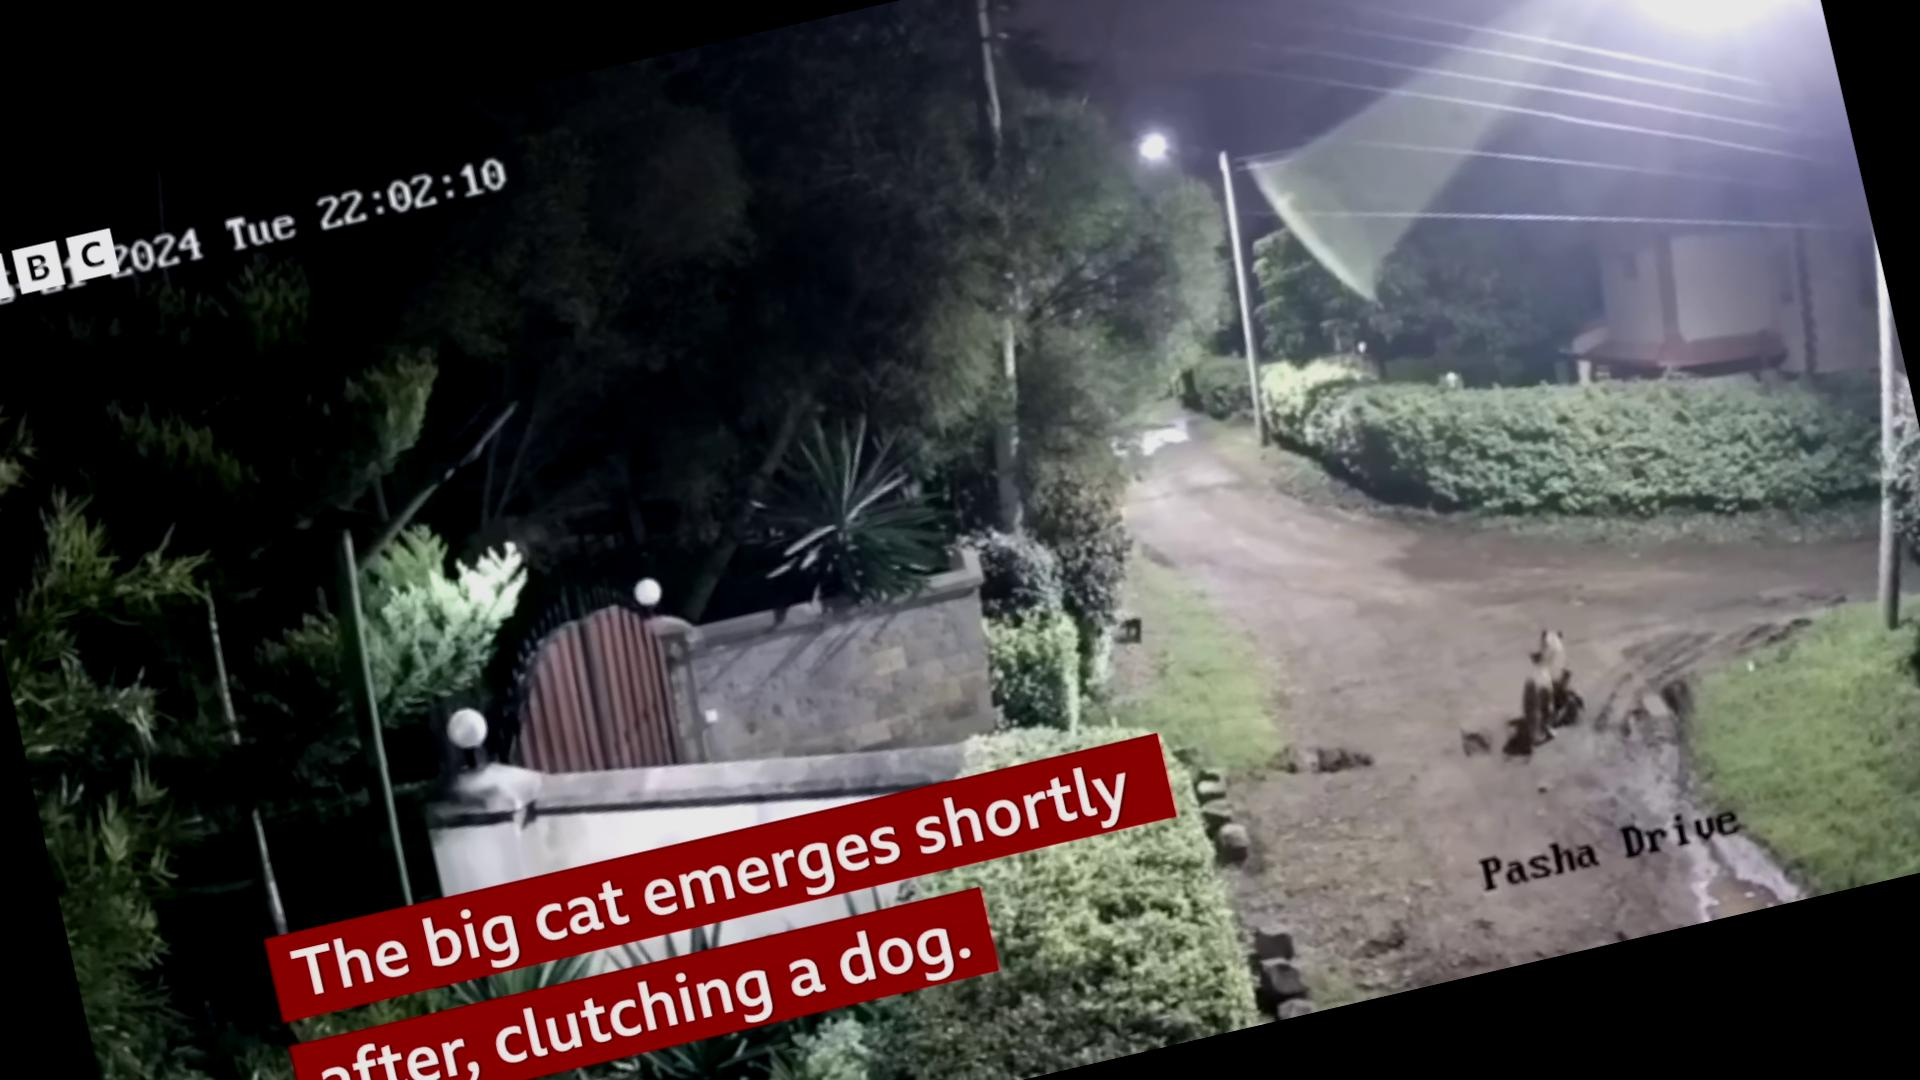lions: (1470, 579, 1658, 794)
